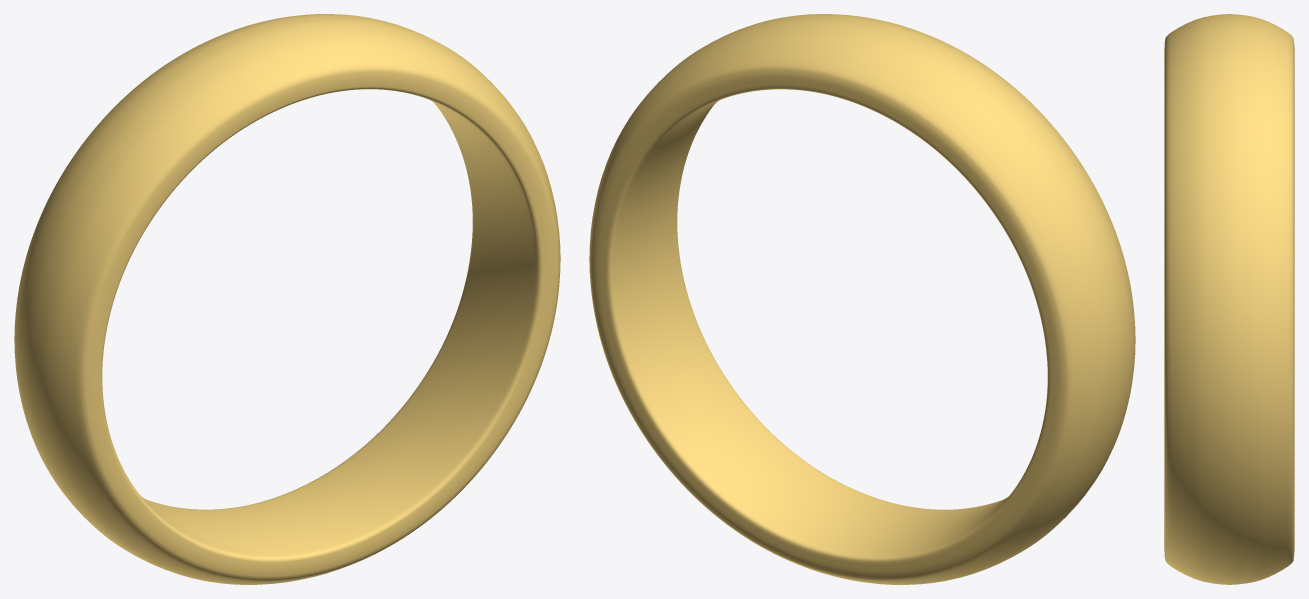
File: RyanSwbhis_blender.glb
3 views of the same model, side by side, from view 1: azimuth 30°, elevation 25°; view 2: azimuth 150°, elevation 25°; view 3: azimuth 270°, elevation 25° (orthographic). The views are drawn at different scales.
Parts seen in each view (by area): view 1: Ryan his YG for 3d model; view 2: Ryan his YG for 3d model; view 3: Ryan his YG for 3d model.
Part boxes in pixels (box(x1,y1,x2,y2)): Ryan his YG for 3d model: box(14, 14, 560, 584); Ryan his YG for 3d model: box(589, 14, 1135, 584); Ryan his YG for 3d model: box(1164, 14, 1294, 584).
Size of the model in its own units: 22.37 by 22.37 by 5.1.
